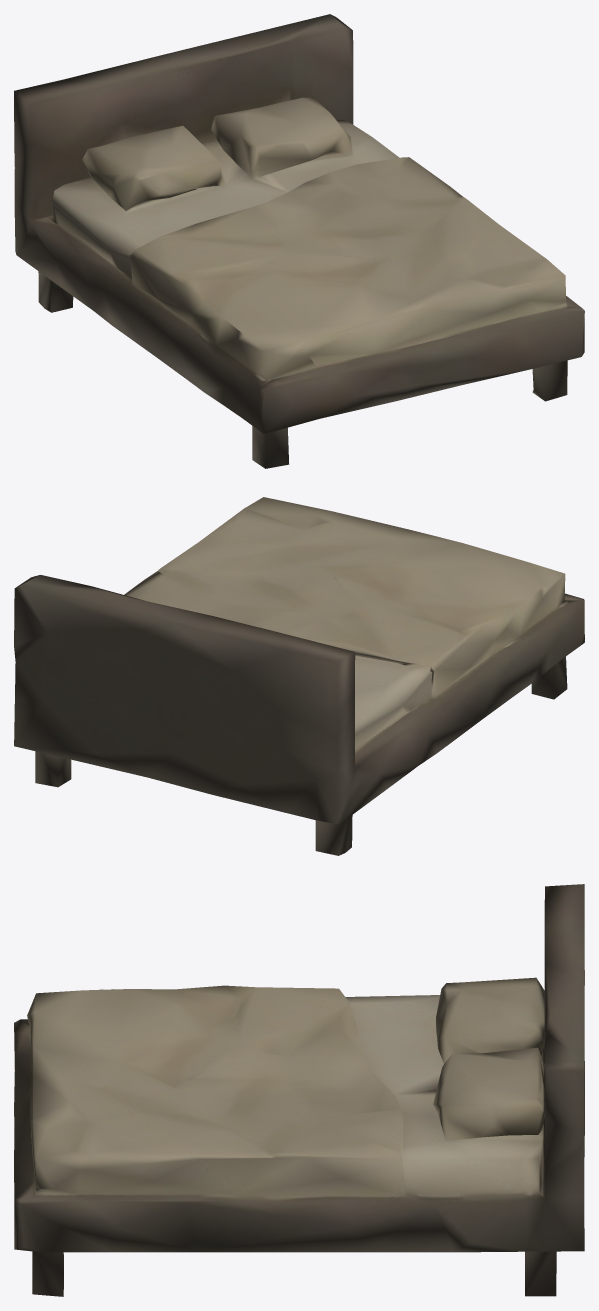
The model's file is tripo_convert_1ec21a1f-4829-4965-b3e1-97a2ce24d2ed.fbx.
The picture shows the model from 3 angles, top to bottom: view 1: azimuth 30°, elevation 25°; view 2: azimuth 150°, elevation 25°; view 3: azimuth 270°, elevation 25°; orthographic projection. The views are drawn at different scales.
Parts seen in each view (by area): view 1: tripo_node_1ec21a1f; view 2: tripo_node_1ec21a1f; view 3: tripo_node_1ec21a1f.
Boxes of the visible parts, bbox=[...] form: tripo_node_1ec21a1f: bbox=[14, 14, 584, 468]; tripo_node_1ec21a1f: bbox=[14, 497, 584, 855]; tripo_node_1ec21a1f: bbox=[14, 884, 584, 1296].
Size of the model in its own units: 0.7568 by 0.4587 by 1.
Materials: 1 (1 with a texture image).
